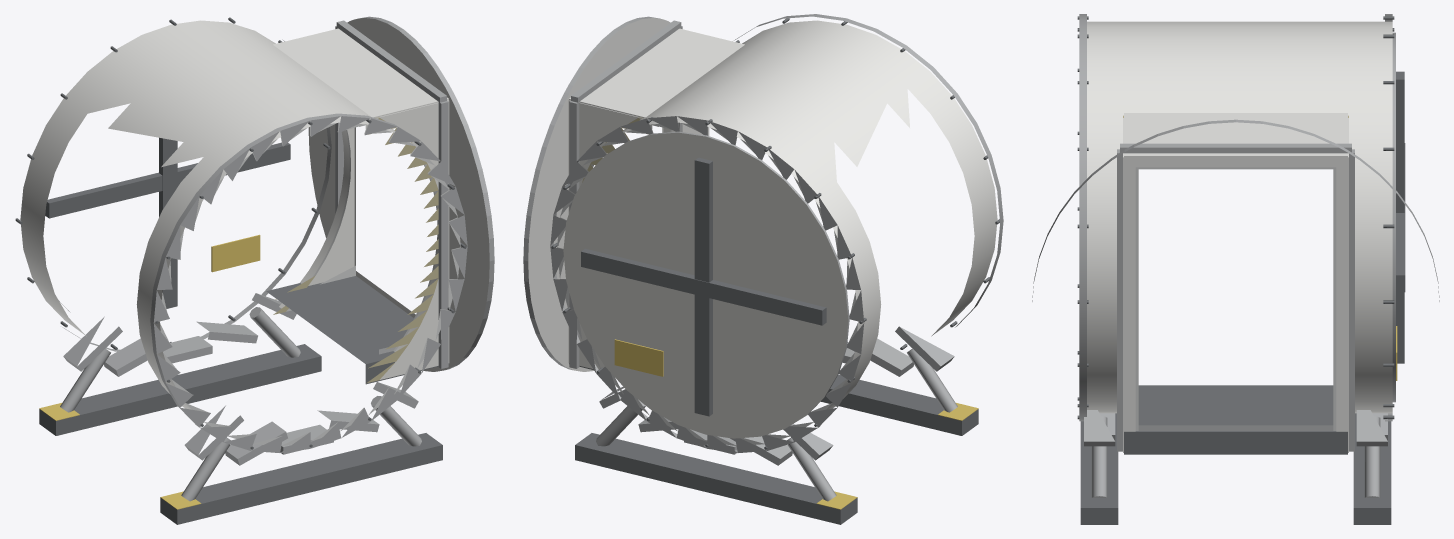
Rendered from habWindowJRb_steel.glb.
The picture shows the model from 3 angles, left to right: view 1: azimuth 30°, elevation 25°; view 2: azimuth 150°, elevation 25°; view 3: azimuth 270°, elevation 25°; orthographic projection. The views are drawn at different scales.
Parts seen in each view (by area): view 1: habWindowJRb_steel; view 2: habWindowJRb_steel; view 3: habWindowJRb_steel.
Part boxes in pixels (<box>): habWindowJRb_steel: <box>15,16,494,524</box>; habWindowJRb_steel: <box>523,14,1003,524</box>; habWindowJRb_steel: <box>1032,14,1439,524</box>.
Bounding box in the file's own units: 2.65 × 2.95 × 2.6.
